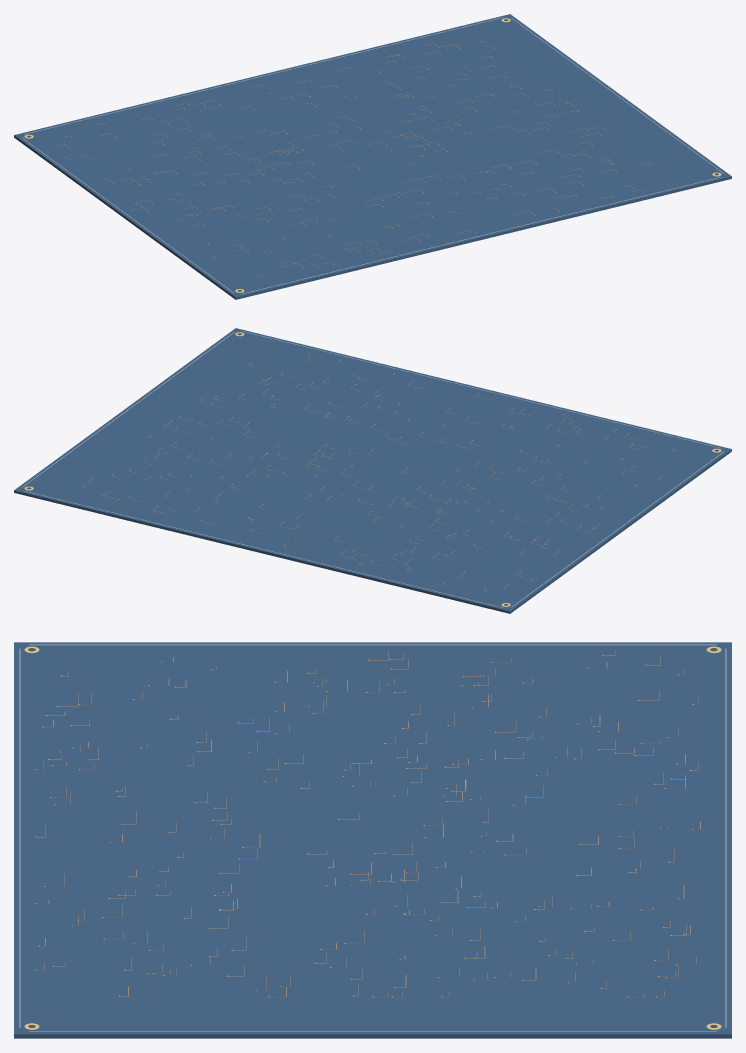
File: 345_L125_PCB_Main.glb
3 renders of one model, top to bottom at view 1: azimuth 30°, elevation 25°; view 2: azimuth 150°, elevation 25°; view 3: azimuth 270°, elevation 25°, orthographic. The views are drawn at different scales.
Visible parts, largest first — view 1: 345_L125_PCB_Main_pcb, 345_L125_PCB_Main_copper, 345_L125_PCB_Main_silkscreen; view 2: 345_L125_PCB_Main_pcb, 345_L125_PCB_Main_copper, 345_L125_PCB_Main_silkscreen; view 3: 345_L125_PCB_Main_pcb, 345_L125_PCB_Main_copper, 345_L125_PCB_Main_silkscreen, 345_L125_PCB_Main_gold.
Part boxes in pixels (x1,y1,x2,y2): 345_L125_PCB_Main_pcb: (14, 14, 731, 299); 345_L125_PCB_Main_copper: (52, 40, 650, 275); 345_L125_PCB_Main_silkscreen: (22, 17, 723, 293); 345_L125_PCB_Main_pcb: (14, 328, 731, 613); 345_L125_PCB_Main_copper: (82, 353, 675, 591); 345_L125_PCB_Main_silkscreen: (22, 331, 723, 607); 345_L125_PCB_Main_pcb: (14, 642, 731, 1038); 345_L125_PCB_Main_copper: (37, 651, 700, 997); 345_L125_PCB_Main_silkscreen: (19, 644, 726, 1031); 345_L125_PCB_Main_gold: (24, 646, 721, 1029).
Bounding box in the file's own units: 0.62 × 0.00334 × 0.48.
